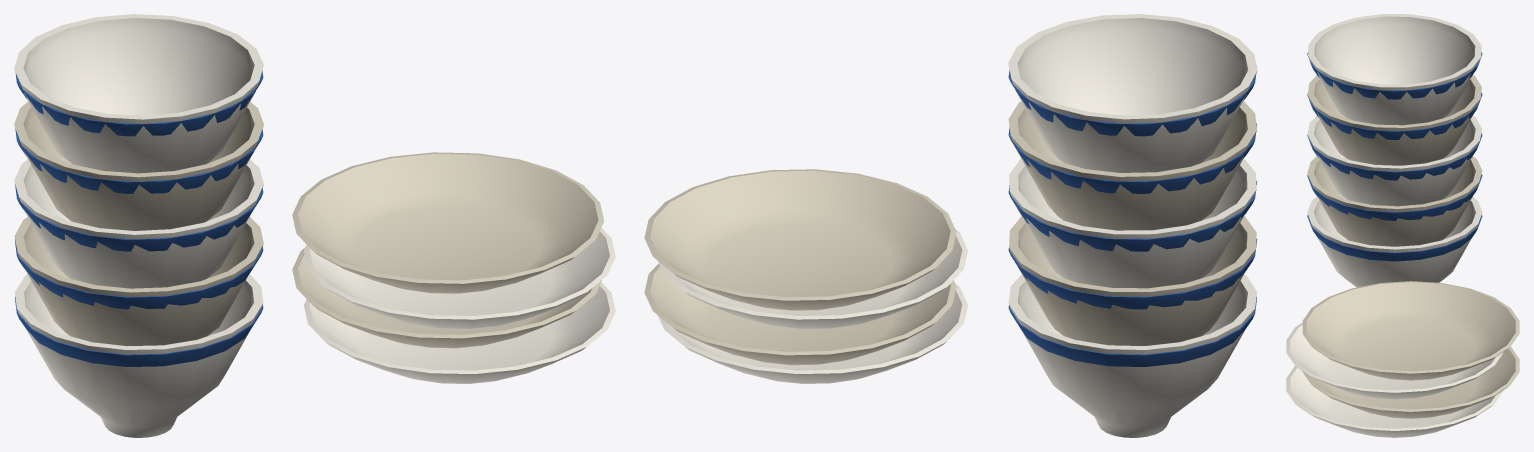
The model's file is bowls_plates.glb.
3 views of the same model, side by side, from view 1: azimuth 30°, elevation 25°; view 2: azimuth 150°, elevation 25°; view 3: azimuth 270°, elevation 25° (orthographic). The views are drawn at different scales.
Visible parts, largest first — view 1: bowls_plates__ceramic_white, bowls_plates__ceramic_rim, bowls_plates__ceramic_blue; view 2: bowls_plates__ceramic_rim, bowls_plates__ceramic_white, bowls_plates__ceramic_blue; view 3: bowls_plates__ceramic_white, bowls_plates__ceramic_rim, bowls_plates__ceramic_blue.
Part boxes in pixels (x1,y1,x2,y2): bowls_plates__ceramic_white: [14, 14, 615, 437]; bowls_plates__ceramic_rim: [14, 101, 604, 348]; bowls_plates__ceramic_blue: [15, 25, 263, 366]; bowls_plates__ceramic_rim: [644, 101, 1256, 365]; bowls_plates__ceramic_white: [658, 14, 1257, 437]; bowls_plates__ceramic_blue: [1008, 66, 1257, 366]; bowls_plates__ceramic_white: [1286, 14, 1503, 437]; bowls_plates__ceramic_rim: [1302, 75, 1519, 418]; bowls_plates__ceramic_blue: [1307, 52, 1482, 261].
Size of the model in its own units: 0.563 by 0.34 by 0.2873.
